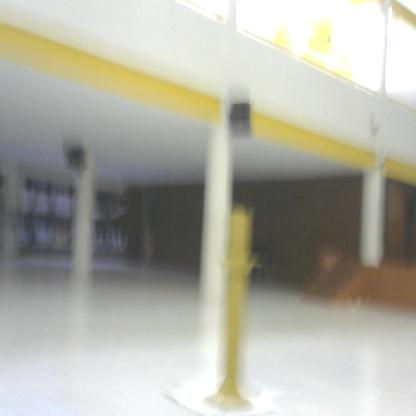pole: (206, 199, 269, 414)
